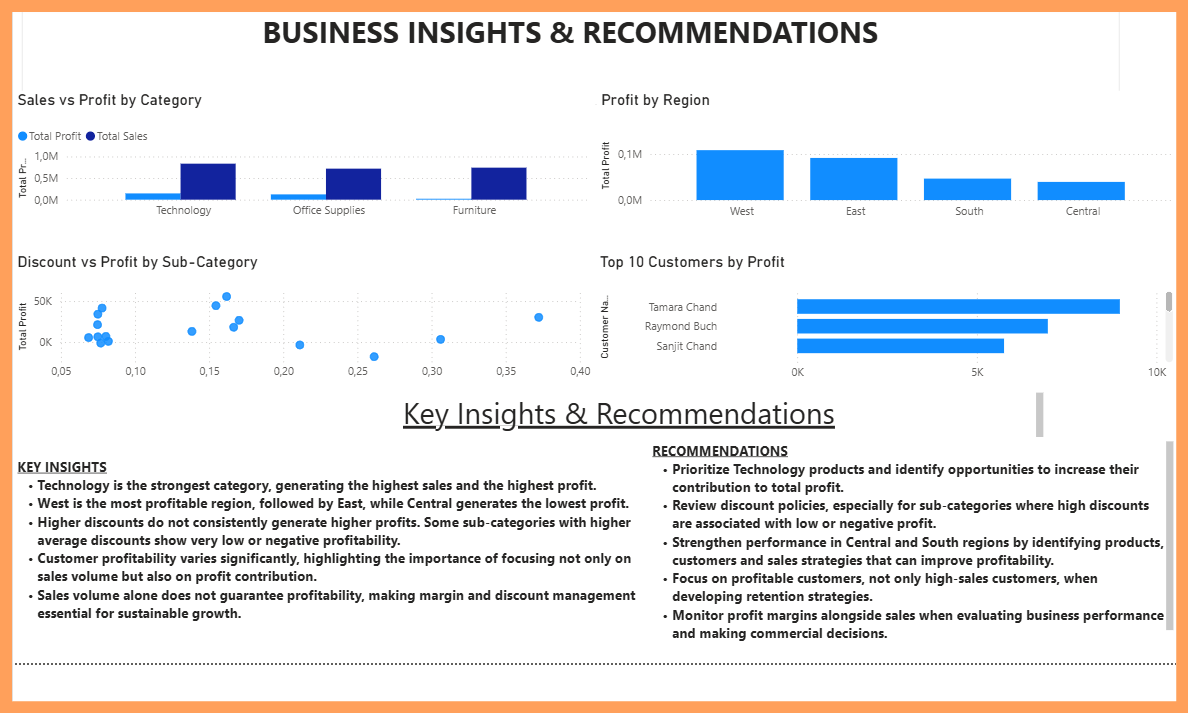

The dashboard page shown, as its layout file describes it:
{"tool":"powerbi","page":{"name":"Business Insights & Recommendations","canvas":[1280,720],"ordinal":1},"visuals":[{"type":"textbox","box":[9.6,0,1204.8,107],"z":0},{"type":"clusteredColumnChart","title":"Sales vs Profit by Category","fields":{"Category":["superstore_clean.Category"],"Y":["superstore_clean.Total Profit","superstore_clean.Total Sales"]},"box":[0,91.9,639.5,149.6],"z":1000},{"type":"clusteredColumnChart","title":"Profit by Region","fields":{"Category":["superstore_clean.Region"],"Y":["superstore_clean.Total Profit"]},"box":[640.8,91.9,639,150],"z":2000},{"type":"scatterChart","title":"Discount vs Profit by Sub-Category","fields":{"Y":["superstore_clean.Total Profit"],"X":["superstore_clean.Average Discount"],"Category":["superstore_clean.Sub-Category"]},"box":[0,269,639.5,149.6],"z":3000},{"type":"clusteredBarChart","title":"Top 10 Customers by Profit","fields":{"Category":["superstore_clean.Customer Name"],"Y":["superstore_clean.Total Profit"]},"box":[639.5,269,639,150],"z":4000},{"type":"textbox","box":[203.1,418.5,933.1,68.6],"z":5000},{"type":"textbox","box":[0,472,697.1,231.9],"z":5001},{"type":"textbox","box":[697.1,471.6,581.8,231.9],"z":5002}]}

Visuals, with their boxes on the page's 1280x720 design canvas (x1, y1, x2, y2). These are canvas units, not pixel positions in the 1188x713 screenshot, which may show the page scaled, cropped or inside an application window:
textbox: <bbox>10, 0, 1214, 107</bbox>
"Sales vs Profit by Category" clusteredColumnChart: <bbox>0, 92, 640, 242</bbox>
"Profit by Region" clusteredColumnChart: <bbox>641, 92, 1280, 242</bbox>
"Discount vs Profit by Sub-Category" scatterChart: <bbox>0, 269, 640, 419</bbox>
"Top 10 Customers by Profit" clusteredBarChart: <bbox>640, 269, 1278, 419</bbox>
textbox: <bbox>203, 418, 1136, 487</bbox>
textbox: <bbox>0, 472, 697, 704</bbox>
textbox: <bbox>697, 472, 1279, 704</bbox>
